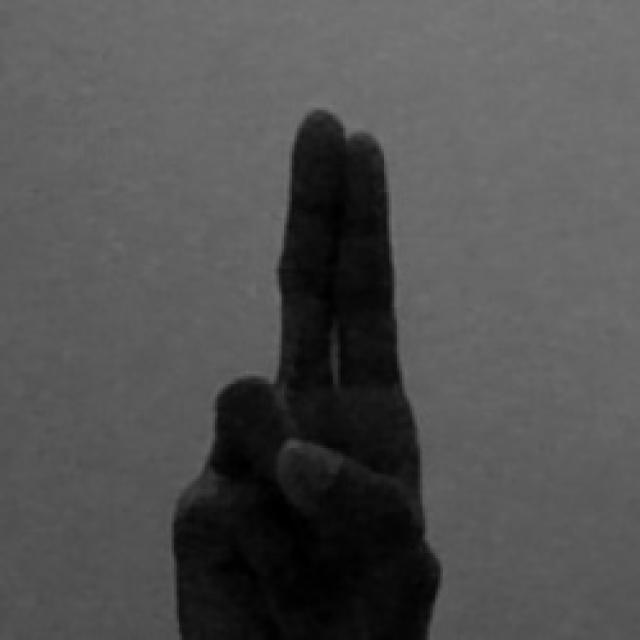U: (172, 100, 446, 640)
